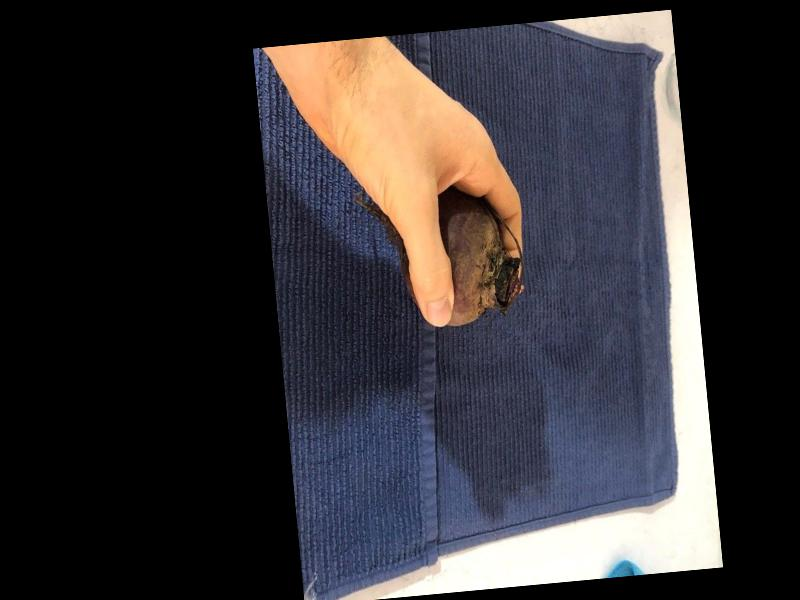Beet: (352, 184, 527, 335)
